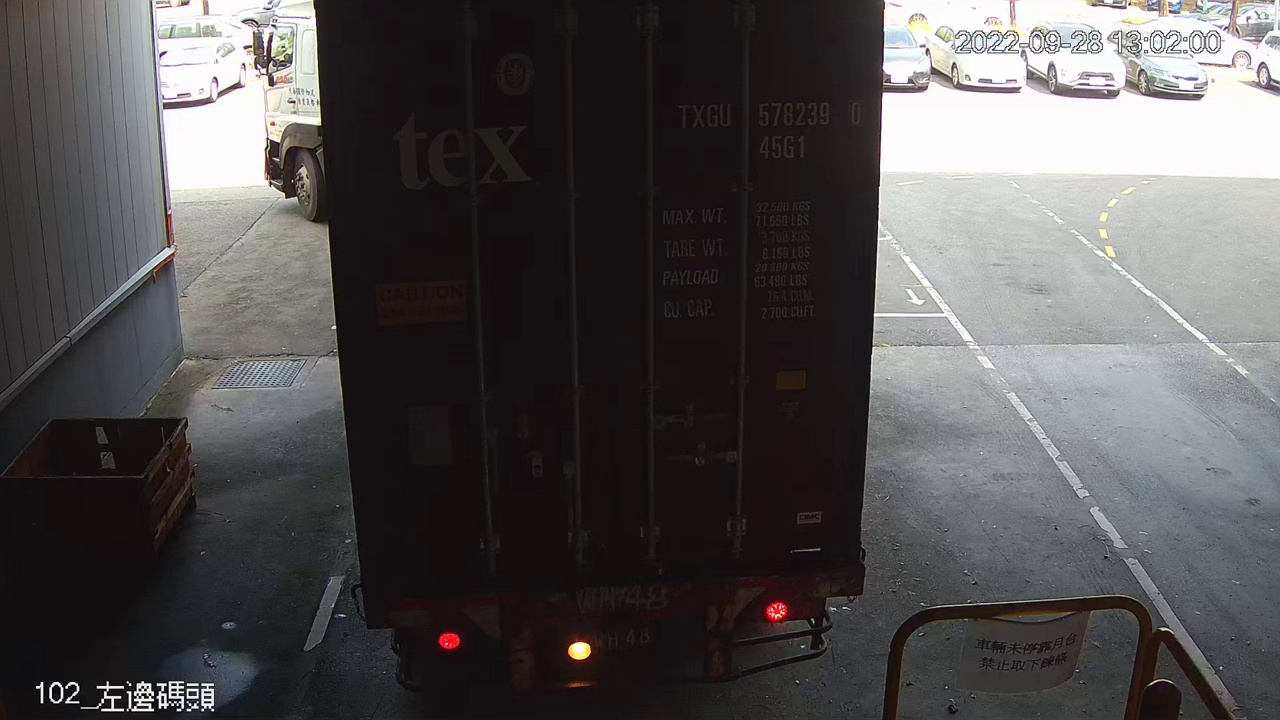container: (670, 91, 870, 165)
